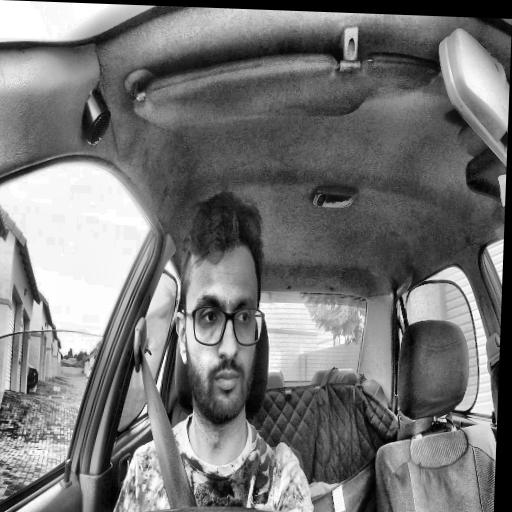awake: (171, 190, 270, 427)
